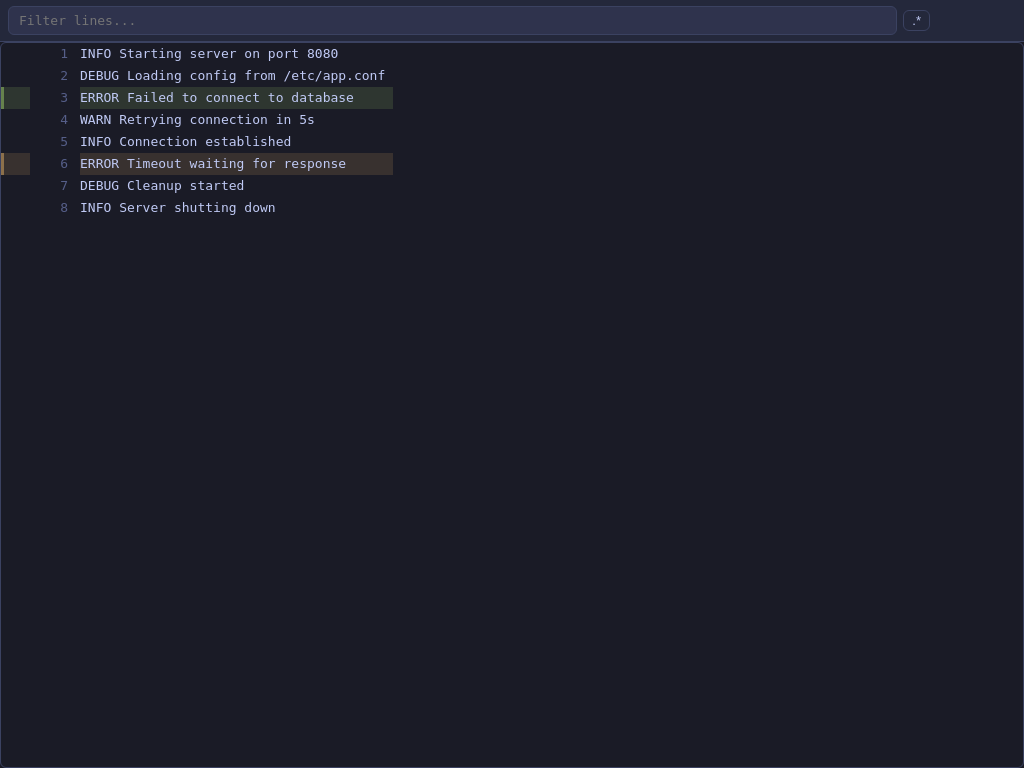
Test case: LogViewer Accumulated State › shows state panel with both extracted and accumulated state for matched line
The image size is (1024, 768).
Click the button with class "log-line" that starts with "ERROR Failed to connect to database". click: (197, 98)
box: [1,87,393,109]
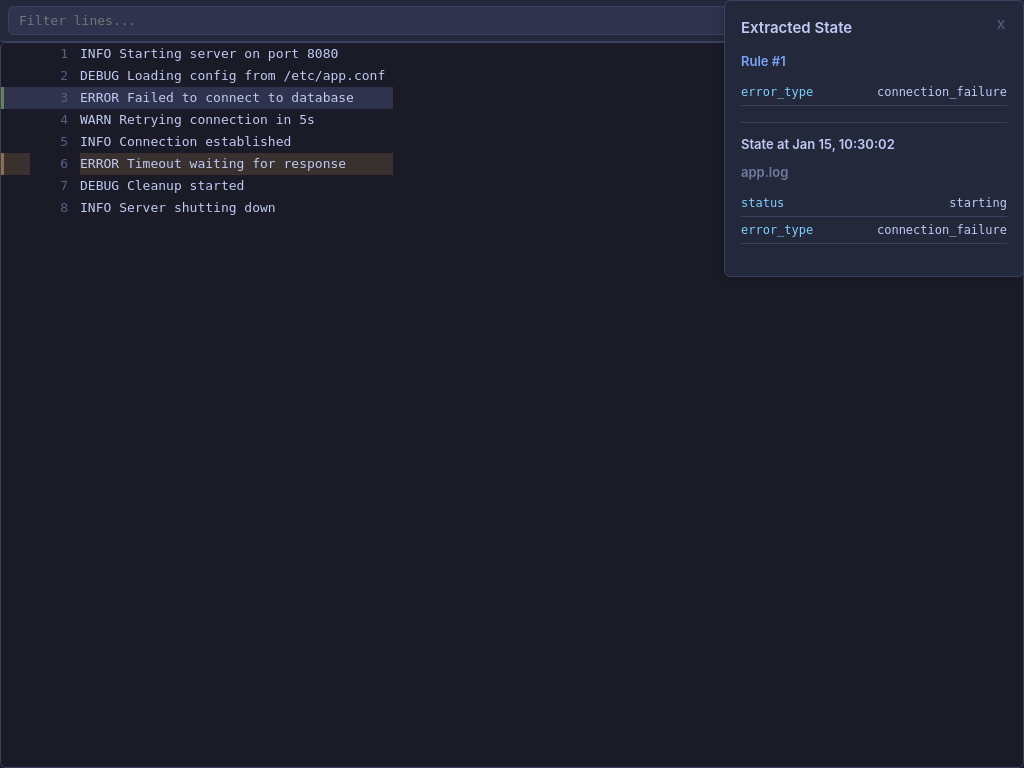
Now the heading "Extracted State" is shown, box [741,18,852,37]
Now the heading "State at Jan 15, 10:30:02" is shown, box [741,136,895,152]
